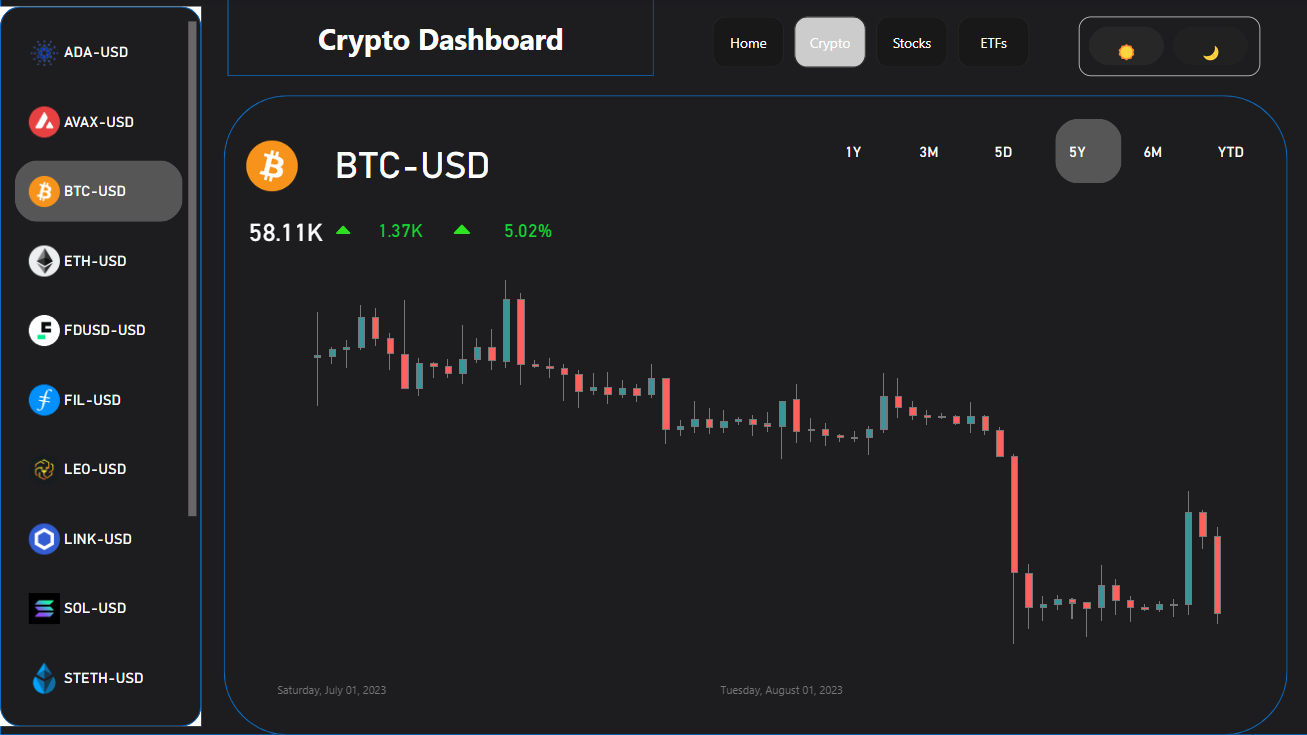

This screenshot's page, from the dashboard's own definition file:
{"tool":"powerbi","page":{"name":"Crypto","canvas":[1280,720],"ordinal":1},"visuals":[{"type":"shape","box":[0,0,1280.3,720.2],"z":0},{"type":"shape","box":[218.9,94.2,1040.6,626.1],"z":1000},{"type":"cardVisual","fields":{"Data":["Min(Stocks Data.Logo)"]},"box":[219.6,111.1,96.1,108.4],"z":2000},{"type":"PBI_CV_886A053E_9DFD_4EA0_A47D_CCAEB89AF969","fields":{"open":["Sum(Stocks Data.Open)"],"close":["Sum(Stocks Data.Close)"],"high":["Sum(Stocks Data.High)"],"low":["Sum(Stocks Data.Low)"],"Category":["Stocks Data.Date"]},"box":[239.7,238.5,1011.3,473.2],"z":3000},{"type":"shape","box":[0,0,196.9,720.2],"z":4000},{"type":"advancedSlicerVisual","fields":{"Values":["Stocks Data.Symbol"]},"box":[9.8,17.1,187.1,683.6],"z":5000},{"type":"advancedSlicerVisual","fields":{"Values":["Stocks Data.Date Category"]},"box":[808.3,112.5,442.7,73.4],"z":6000},{"type":"advancedSlicerVisual","fields":{"Values":["Colour Codes.Label"]},"box":[1055.3,17.1,177.3,58.7],"z":7000},{"type":"card","fields":{"Values":["Min(Stocks Data.Symbol)"]},"box":[239.7,111.3,327.7,96.6],"z":8000},{"type":"card","fields":{"Values":["Stocks Data.Open_Value"]},"box":[228.7,207.9,101.5,39.1],"z":9000},{"type":"card","fields":{"Values":["Stocks Data.Open_Close_Diff"]},"box":[341.2,207.9,101.5,39.1],"z":10000},{"type":"card","fields":{"Values":["Stocks Data.Diff_%"]},"box":[465.9,207.9,101.5,39.1],"z":11000},{"type":"cardVisual","fields":{"Data":["Min(Stocks Data.Logo)"]},"box":[306.9,199.3,62.4,47.7],"z":12000},{"type":"cardVisual","fields":{"Data":["Min(Stocks Data.Logo)"]},"box":[421.9,199.3,64.8,47.7],"z":13000},{"type":"shape","box":[222.3,0,417.2,75.5],"z":14000},{"type":"pageNavigator","box":[697,17.1,313,50.1],"z":15000}]}

Visuals, with their boxes in screenshot pixels (x1, y1, x2, y2), scaled from the page's 1280x720 canvas onto the 1307x735 screenshot:
shape: region(0, 0, 1306, 734)
shape: region(224, 96, 1286, 734)
cardVisual - Min(Stocks Data.Logo): region(224, 113, 322, 224)
PBI_CV_886A053E_9DFD_4EA0_A47D_CCAEB89AF969 - Sum(Stocks Data.Open) x Sum(Stocks Data.Close): region(245, 243, 1277, 727)
shape: region(0, 0, 201, 734)
advancedSlicerVisual - Stocks Data.Symbol: region(10, 17, 201, 715)
advancedSlicerVisual - Stocks Data.Date Category: region(825, 115, 1277, 190)
advancedSlicerVisual - Colour Codes.Label: region(1078, 17, 1259, 77)
card - Min(Stocks Data.Symbol): region(245, 114, 579, 212)
card - Stocks Data.Open_Value: region(234, 212, 337, 252)
card - Stocks Data.Open_Close_Diff: region(348, 212, 452, 252)
card - Stocks Data.Diff_%: region(476, 212, 579, 252)
cardVisual - Min(Stocks Data.Logo): region(313, 203, 377, 252)
cardVisual - Min(Stocks Data.Logo): region(431, 203, 497, 252)
shape: region(227, 0, 653, 77)
pageNavigator: region(712, 17, 1031, 69)
